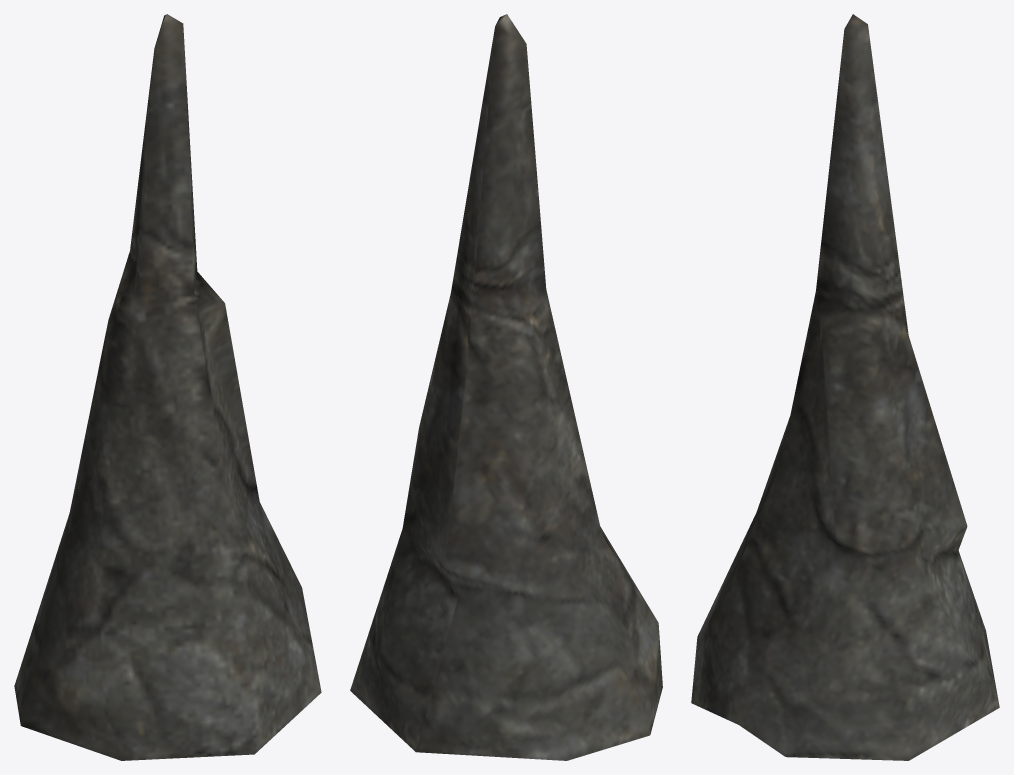
The model's file is Stal5.fbx.
3 views of the same model, side by side, from view 1: azimuth 30°, elevation 25°; view 2: azimuth 150°, elevation 25°; view 3: azimuth 270°, elevation 25° (orthographic).
Parts seen in each view (by area): view 1: Stal2_polySurface9; view 2: Stal2_polySurface9; view 3: Stal2_polySurface9.
Boxes of the visible parts, x1,y1,x2,y2 form: Stal2_polySurface9: [14, 14, 321, 760]; Stal2_polySurface9: [350, 14, 662, 760]; Stal2_polySurface9: [691, 14, 999, 760].
Bounding box in the file's own units: 0.831 × 1.99 × 0.8129.
